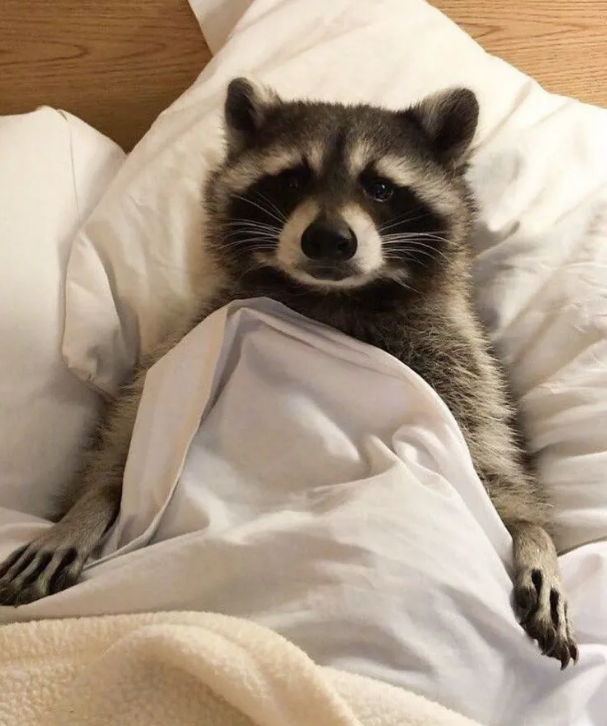raccoon: (194, 71, 493, 342)
